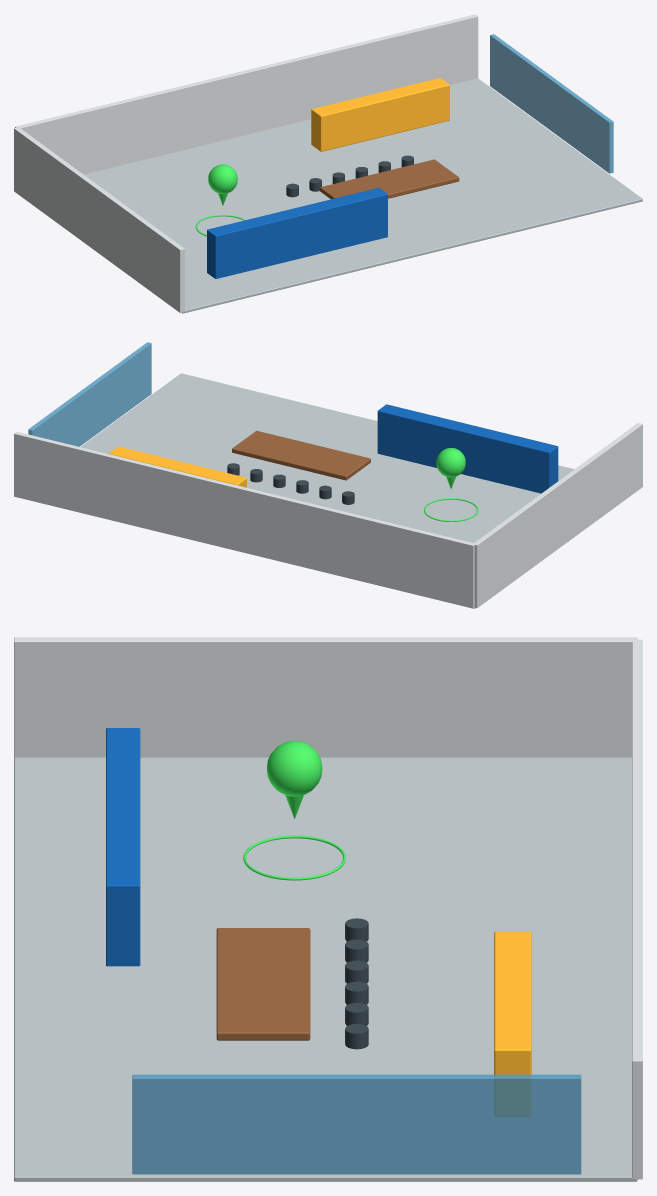
Rendered from worker-place.glb.
3 renders of one model, top to bottom at view 1: azimuth 30°, elevation 25°; view 2: azimuth 150°, elevation 25°; view 3: azimuth 270°, elevation 25°, orthographic. The views are drawn at different scales.
Visible parts, largest first — view 1: worker place floor plate, worker place rear wall, worker place left wall, worker locker row, worker place right glass wall, ppe yellow equipment shelf, worker briefing table, worker task assignment marker pin head; view 2: worker place rear wall, worker place floor plate, worker place left wall, worker locker row, worker place right glass wall, worker briefing table, ppe yellow equipment shelf, worker task assignment marker pin head; view 3: worker place floor plate, worker place left wall, worker place right glass wall, worker briefing table, worker locker row, ppe yellow equipment shelf, worker place rear wall, worker task assignment marker pin head, worker task assignment marker ground status ring.
Boxes of the visible parts, x1,y1,x2,y2 form: worker place floor plate: (84, 78, 642, 313); worker place rear wall: (15, 14, 478, 174); worker place left wall: (14, 127, 184, 312); worker locker row: (207, 187, 387, 278); worker place right glass wall: (490, 34, 613, 173); ppe yellow equipment shelf: (311, 78, 449, 151); worker briefing table: (320, 159, 459, 199); worker task assignment marker pin head: (208, 164, 237, 193); worker place rear wall: (14, 431, 474, 608); worker place floor plate: (80, 373, 574, 608); worker place left wall: (473, 423, 642, 607); worker locker row: (377, 404, 558, 493); worker place right glass wall: (28, 342, 151, 446); worker briefing table: (232, 430, 370, 480); ppe yellow equipment shelf: (108, 446, 246, 487); worker task assignment marker pin head: (436, 448, 465, 477); worker place floor plate: (14, 757, 637, 1181); worker place left wall: (14, 637, 637, 757); worker place right glass wall: (132, 1074, 581, 1174); worker briefing table: (216, 928, 310, 1040); worker locker row: (106, 728, 140, 966); ppe yellow equipment shelf: (494, 931, 531, 1116); worker place rear wall: (632, 639, 642, 1179); worker task assignment marker pin head: (267, 740, 322, 796); worker task assignment marker ground status ring: (243, 835, 345, 880).
Bounding box in the file's own units: 32.33 × 4.34 × 20.17.
